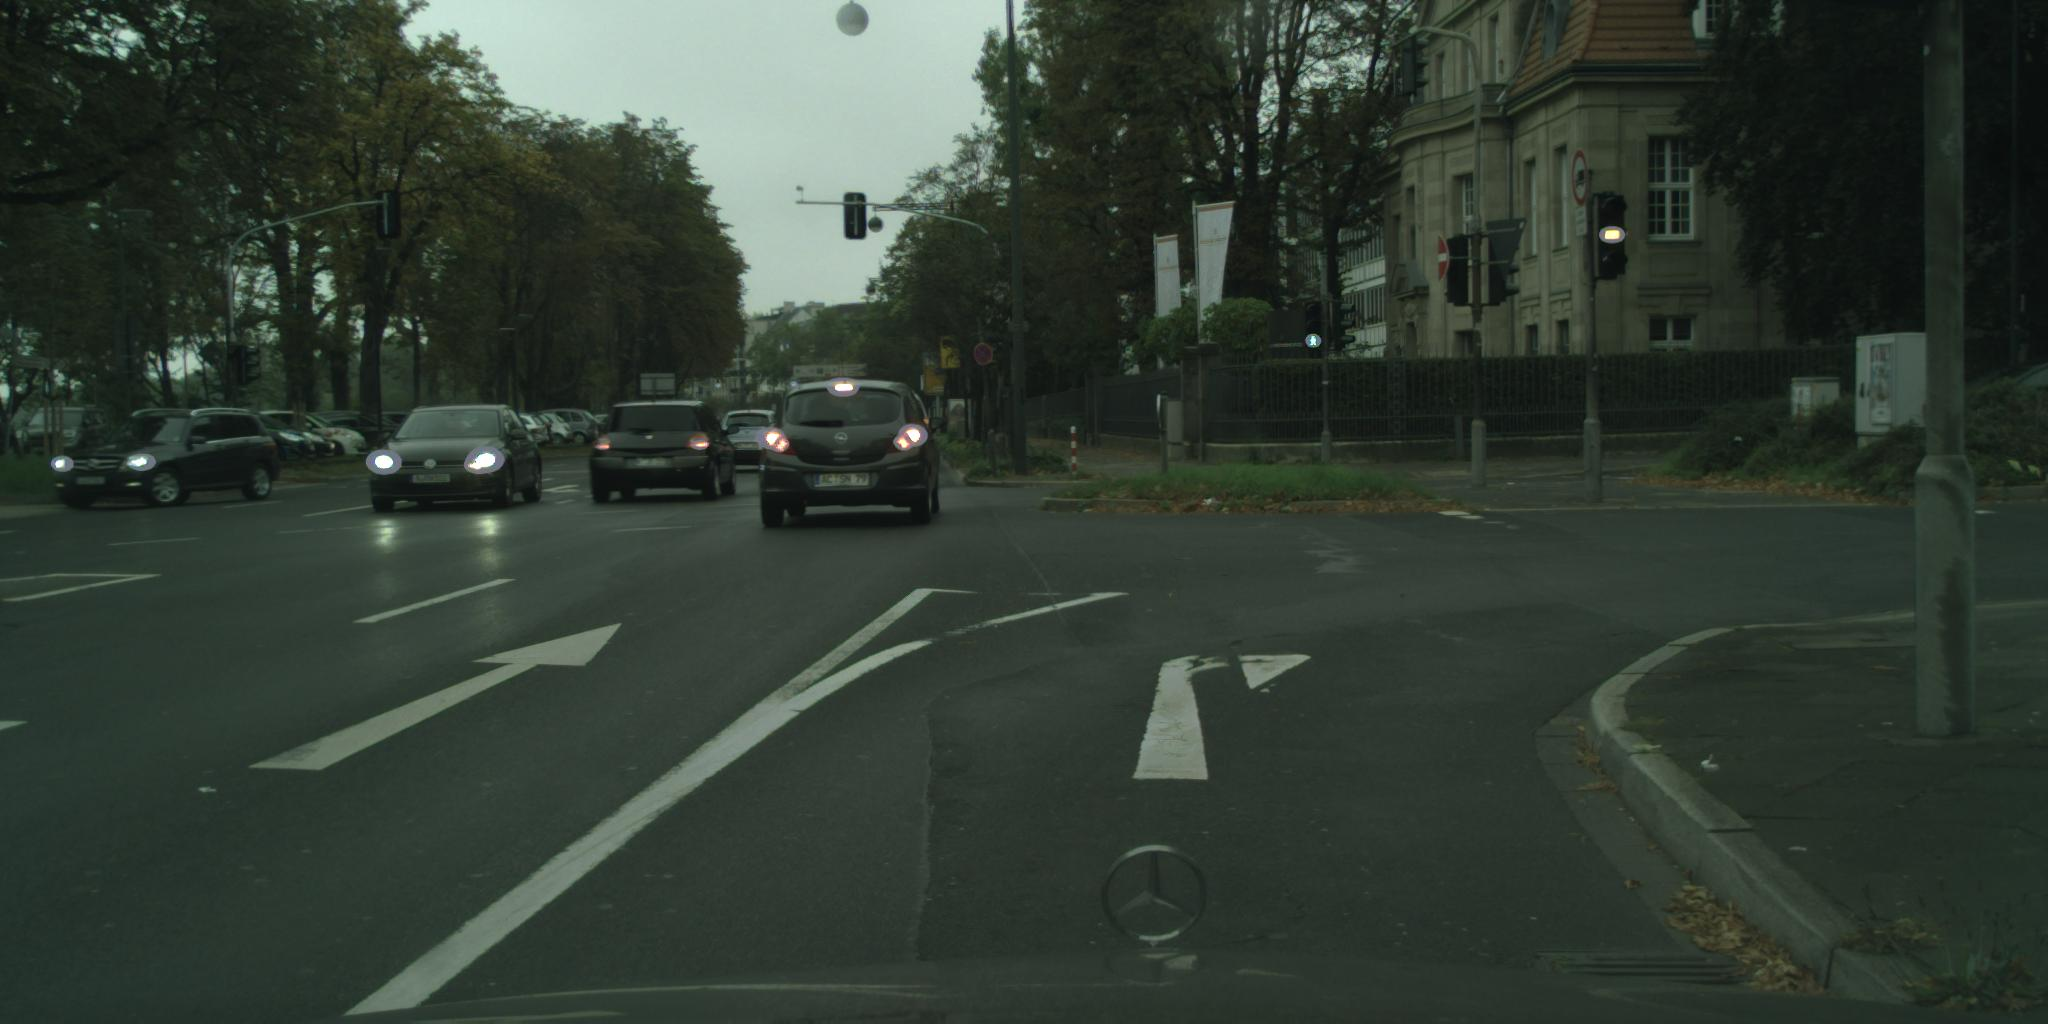car: (759, 380, 950, 529), (55, 408, 282, 509), (370, 404, 545, 515), (590, 400, 743, 505), (257, 410, 372, 465), (13, 405, 114, 462), (718, 409, 785, 468), (534, 410, 600, 445), (513, 411, 549, 455), (528, 414, 573, 445), (526, 413, 555, 455), (381, 409, 424, 430)
